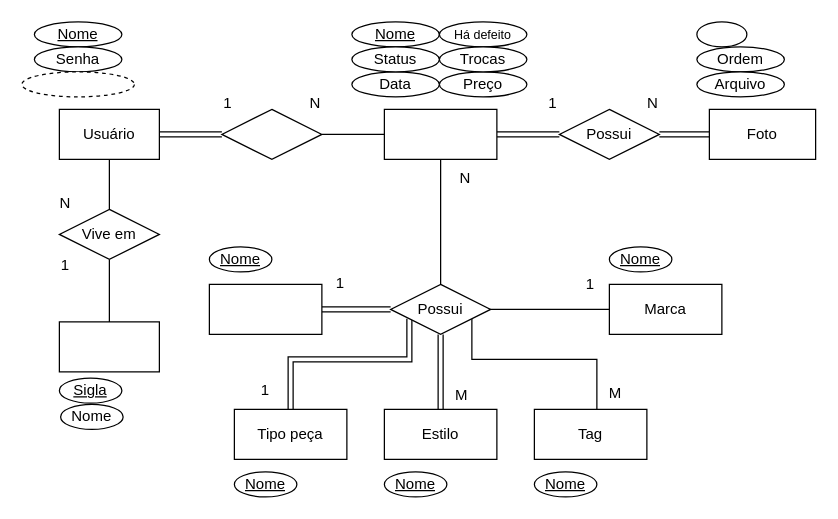
Image size: 838x519. Some labels were removed from this diagram. The centre of each missing label's shape, as x and y in pixels:
"Anúncio" belongs at point 440,133.
"Cria" belongs at point 271,133.
"Estado" belongs at point 108,346.
"ID" belongs at point 721,34.
"Reputação" belongs at point 77,84.
"Tamanho" belongs at point 265,308.
